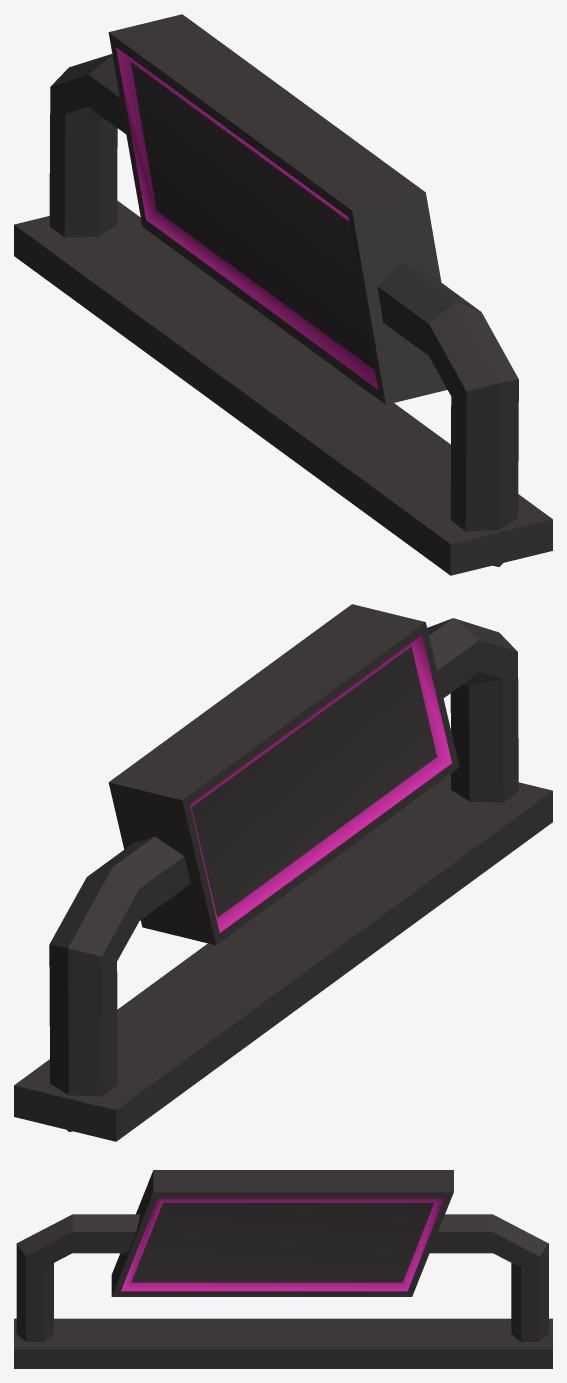
Rendered from Railing.fbx.
3 renders of one model, top to bottom at view 1: azimuth 30°, elevation 25°; view 2: azimuth 150°, elevation 25°; view 3: azimuth 270°, elevation 25°, orthographic. The views are drawn at different scales.
Visible parts, largest first — view 1: pCube3; view 2: pCube3; view 3: pCube3.
Part boxes in pixels (x1,y1,x2,y2): pCube3: (14,14,552,575); pCube3: (14,604,552,1141); pCube3: (14,1170,552,1368).
Size of the model in its own units: 0.2823 by 0.7505 by 2.09.
